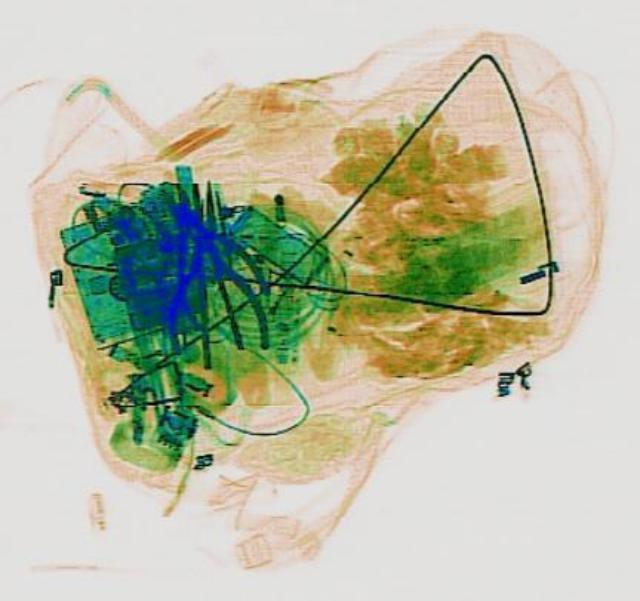Pliers: (125, 171, 277, 332), (148, 175, 270, 356)
